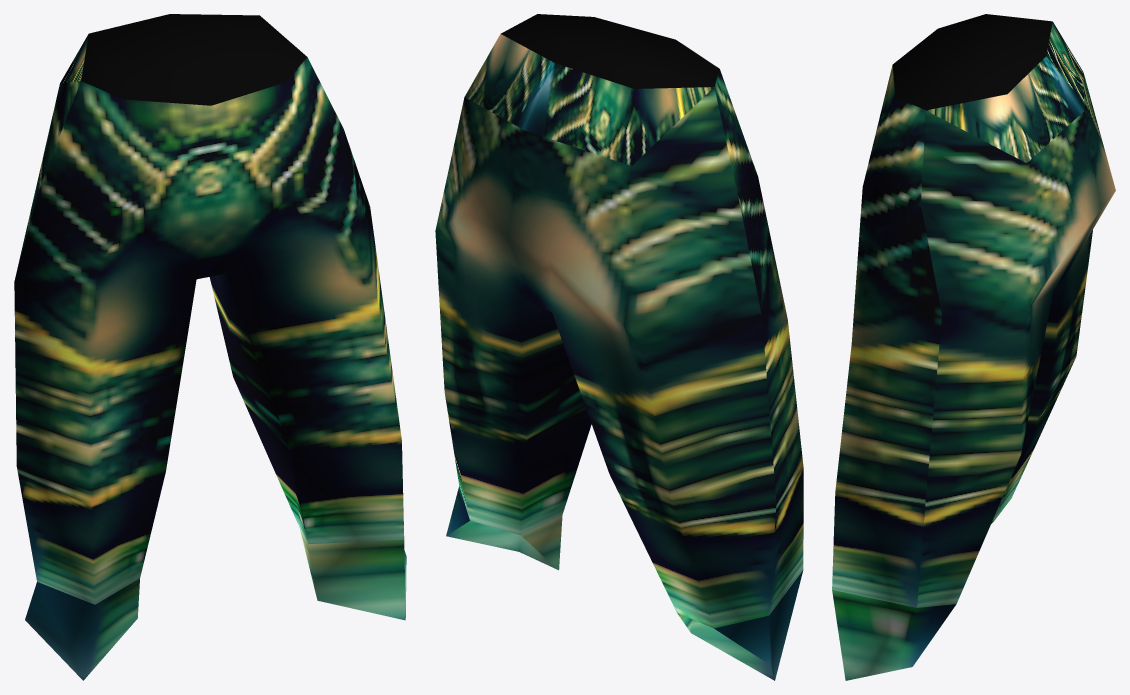
3 views of the same model, side by side, from view 1: azimuth 30°, elevation 25°; view 2: azimuth 150°, elevation 25°; view 3: azimuth 270°, elevation 25° (orthographic). The views are drawn at different scales.
Visible parts, largest first — view 1: PantElf04; view 2: PantElf04; view 3: PantElf04.
Boxes of the visible parts, bbox=[...] form: PantElf04: bbox=[14, 14, 406, 680]; PantElf04: bbox=[435, 14, 803, 680]; PantElf04: bbox=[832, 14, 1115, 680].
Bounding box in the file's own units: 45.13 × 72.41 × 32.02.
2 materials, 2 textured.
